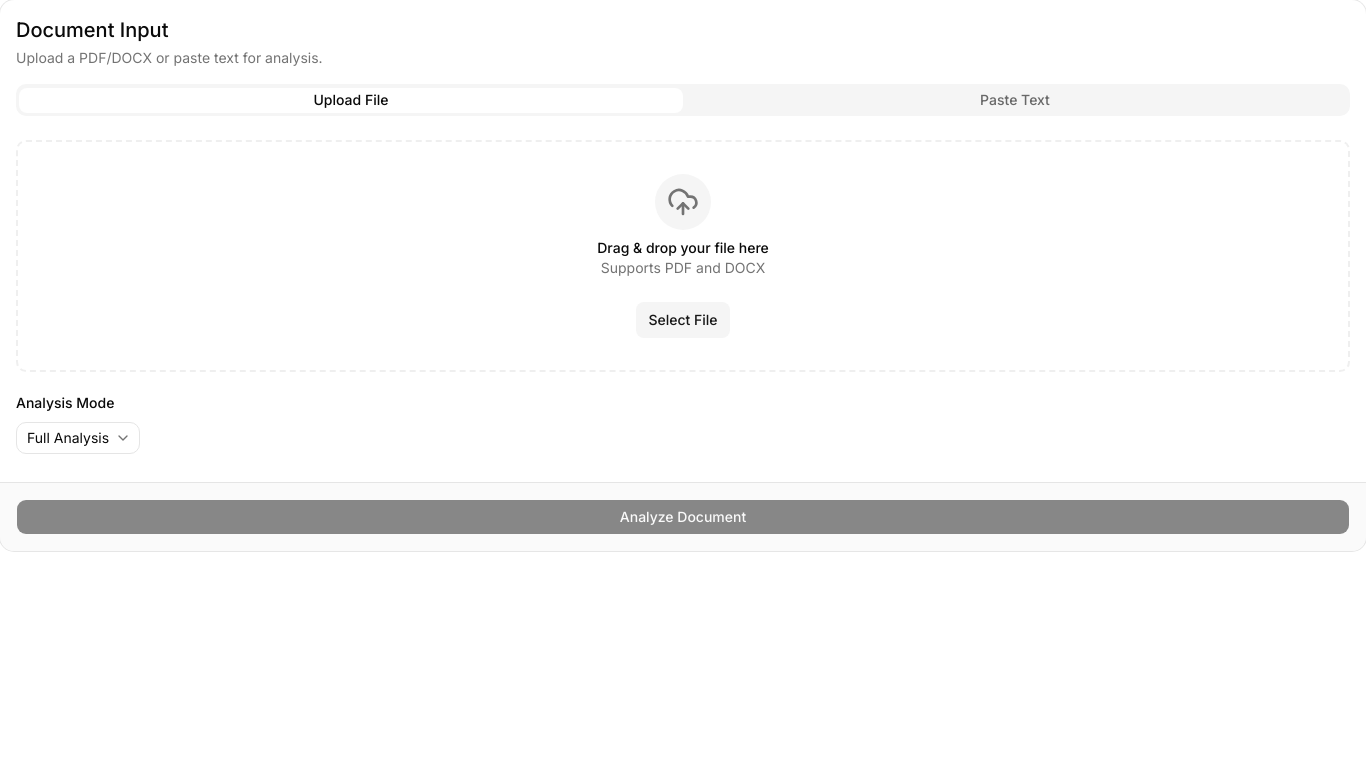
Test: DocumentInput Component › shows character count when text is entered
Click the tab "Paste Text" at (1015, 100), box [683,88,1347,112]
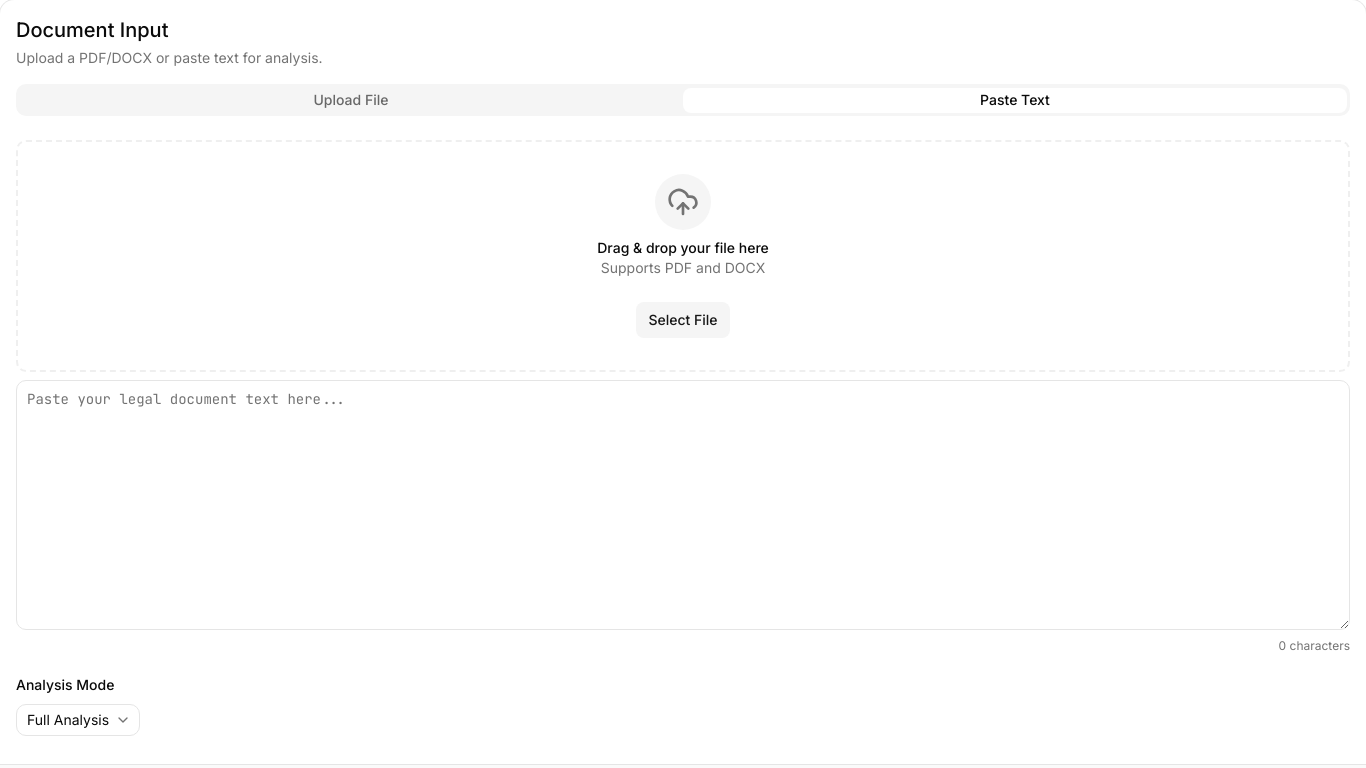
Type "Hello" into the text box with placeholder "Paste your legal document text here..." at (683, 505), box [16,380,1350,630]
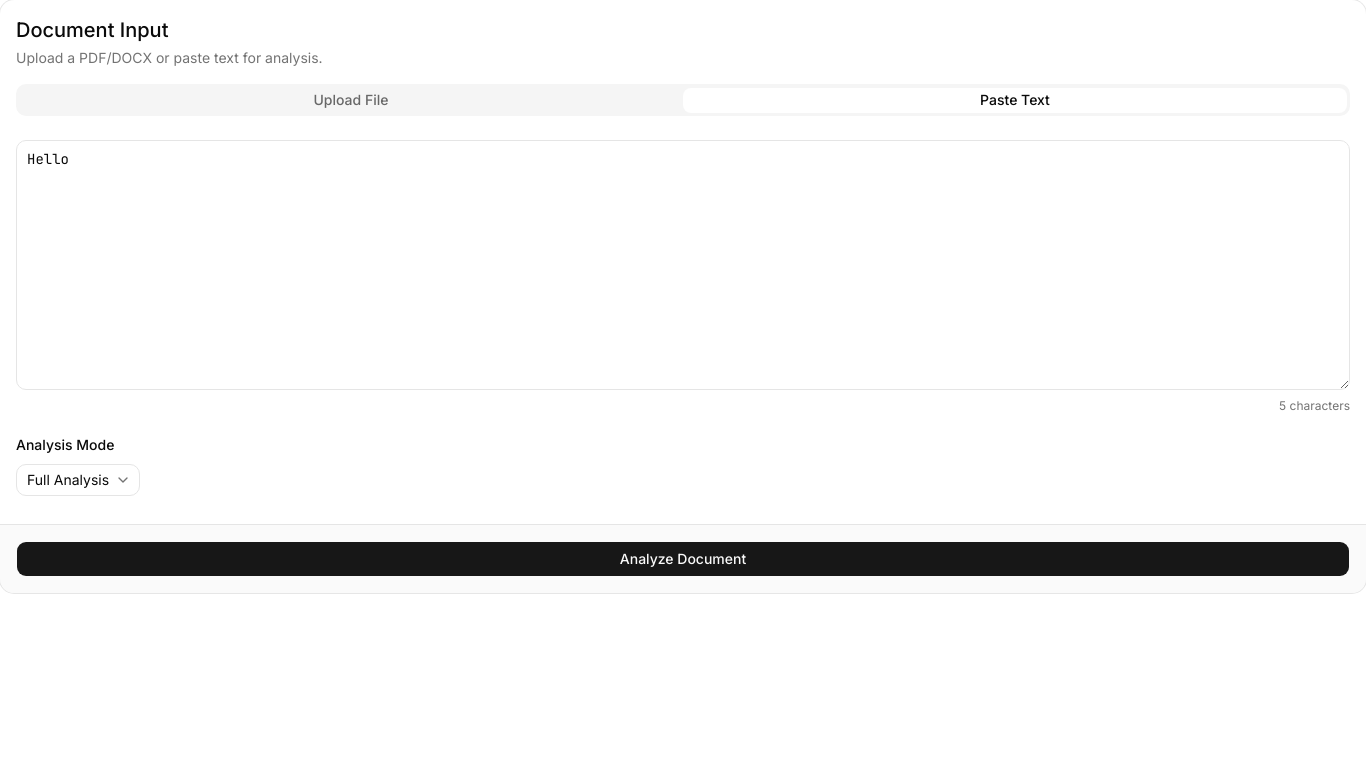
Now the text "5 characters" is shown, box [1279,398,1350,413]
